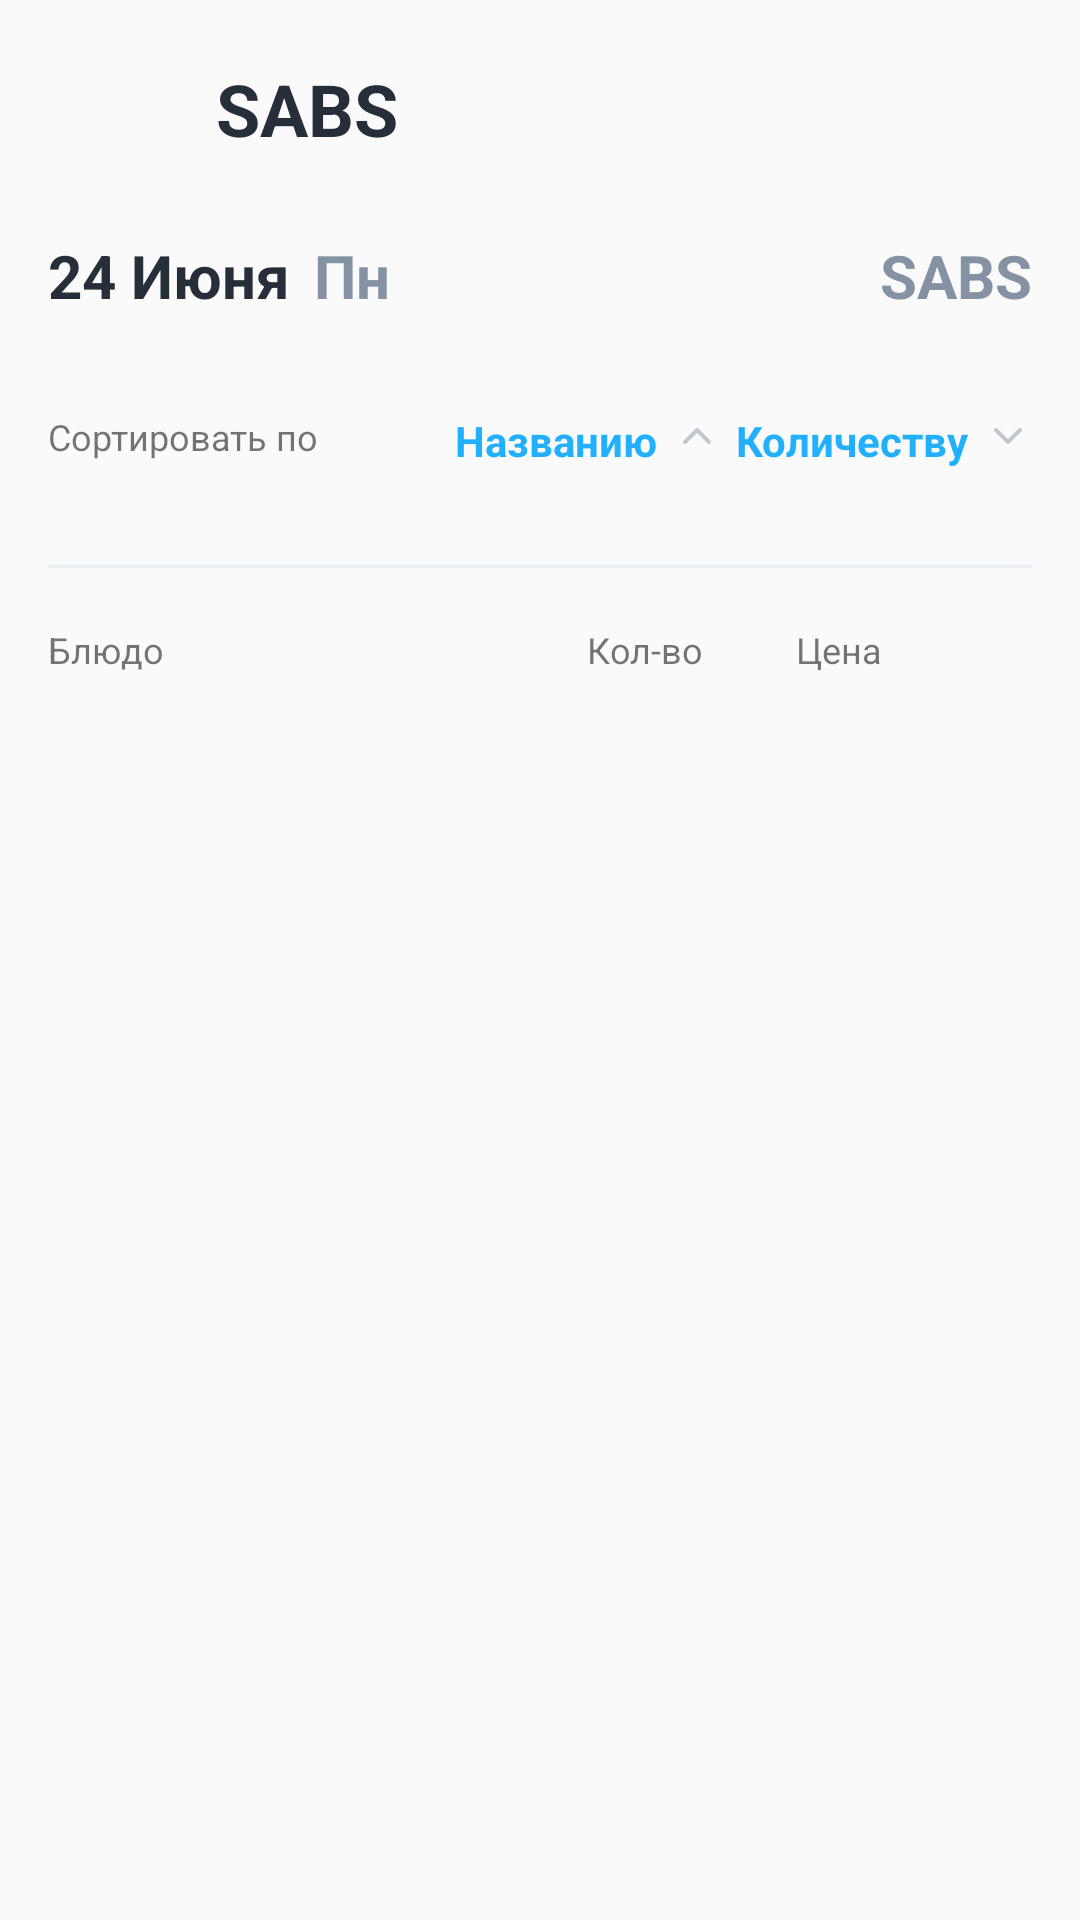

Icon click points for this 1080x1920 phone screenshot, format point (x, y):
arrou ap: point (697, 436)
arrou down: point (1008, 436)
